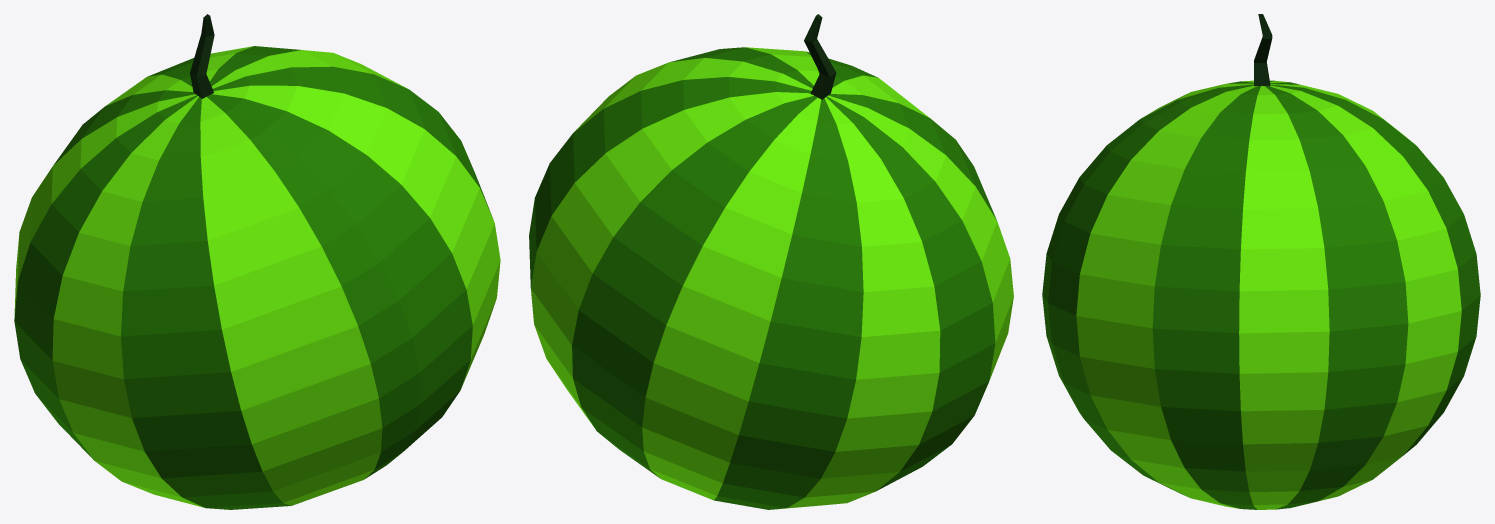
Rendered from WATERMELON.glb.
3 renders of one model, left to right at view 1: azimuth 30°, elevation 25°; view 2: azimuth 150°, elevation 25°; view 3: azimuth 270°, elevation 25°, orthographic. The views are drawn at different scales.
Parts seen in each view (by area): view 1: Sphere.006; view 2: Sphere.006; view 3: Sphere.006.
Part boxes in pixels (x1=…): Sphere.006: x1=14, y1=14, x2=500, y2=509; Sphere.006: x1=529, y1=14, x2=1013, y2=509; Sphere.006: x1=1042, y1=14, x2=1480, y2=509.
Bounding box in the file's own units: 1.66 × 1.78 × 1.56.
